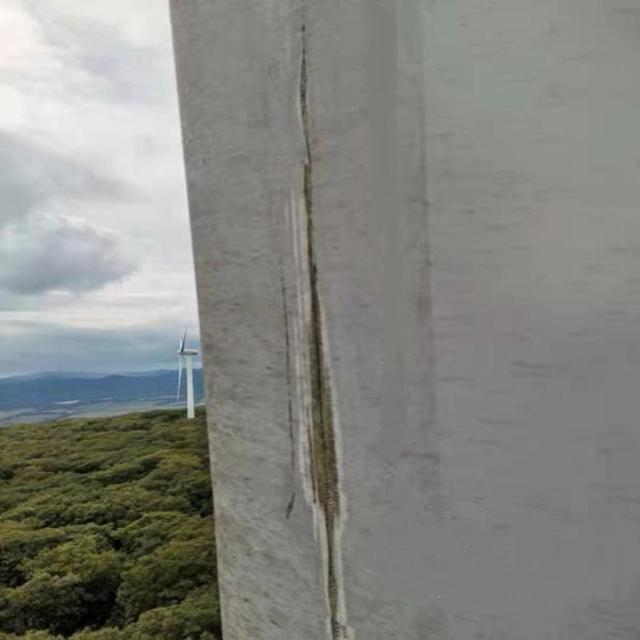crack: (290, 12, 361, 620)
